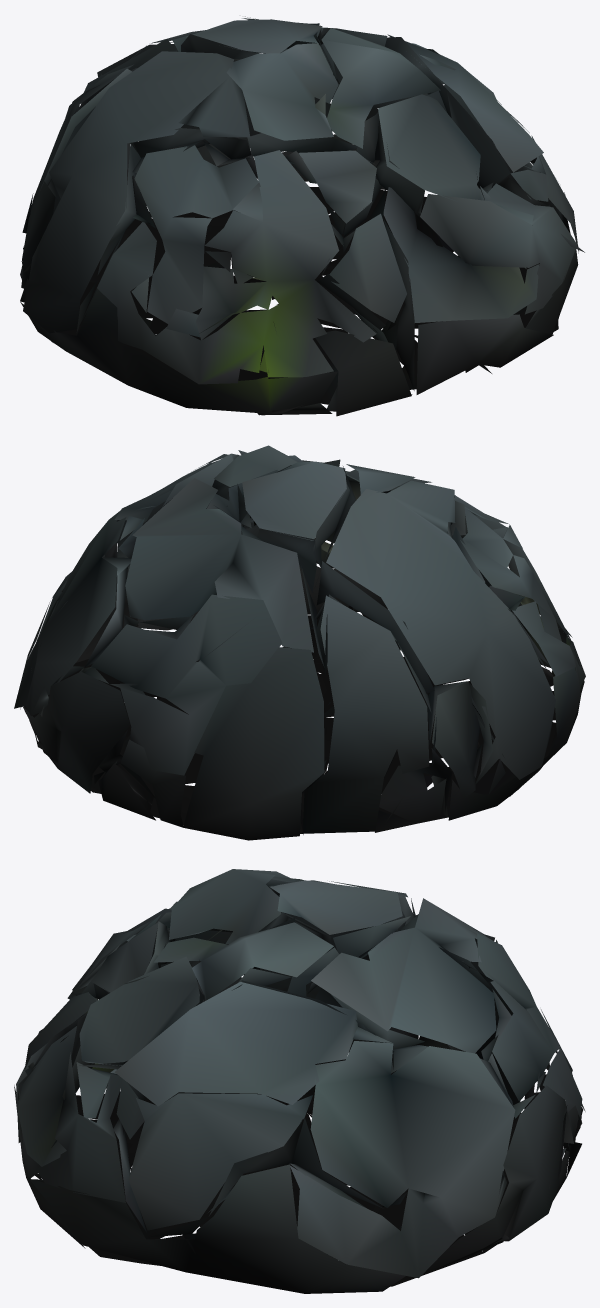
Rendered from rock.glb.
3 renders of one model, top to bottom at view 1: azimuth 30°, elevation 25°; view 2: azimuth 150°, elevation 25°; view 3: azimuth 270°, elevation 25°, orthographic. The views are drawn at different scales.
Visible parts, largest first — view 1: geometry_0; view 2: geometry_0; view 3: geometry_0.
Part boxes in pixels (<box>): geometry_0: <box>20,16,584,416</box>; geometry_0: <box>14,445,585,840</box>; geometry_0: <box>14,869,585,1293</box>.
Bounding box in the file's own units: 30.94 × 16.52 × 29.83.
